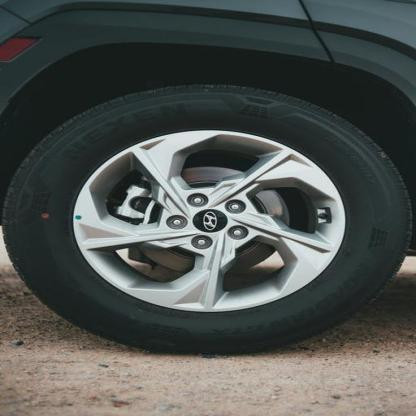Tire: (2, 82, 415, 356)
